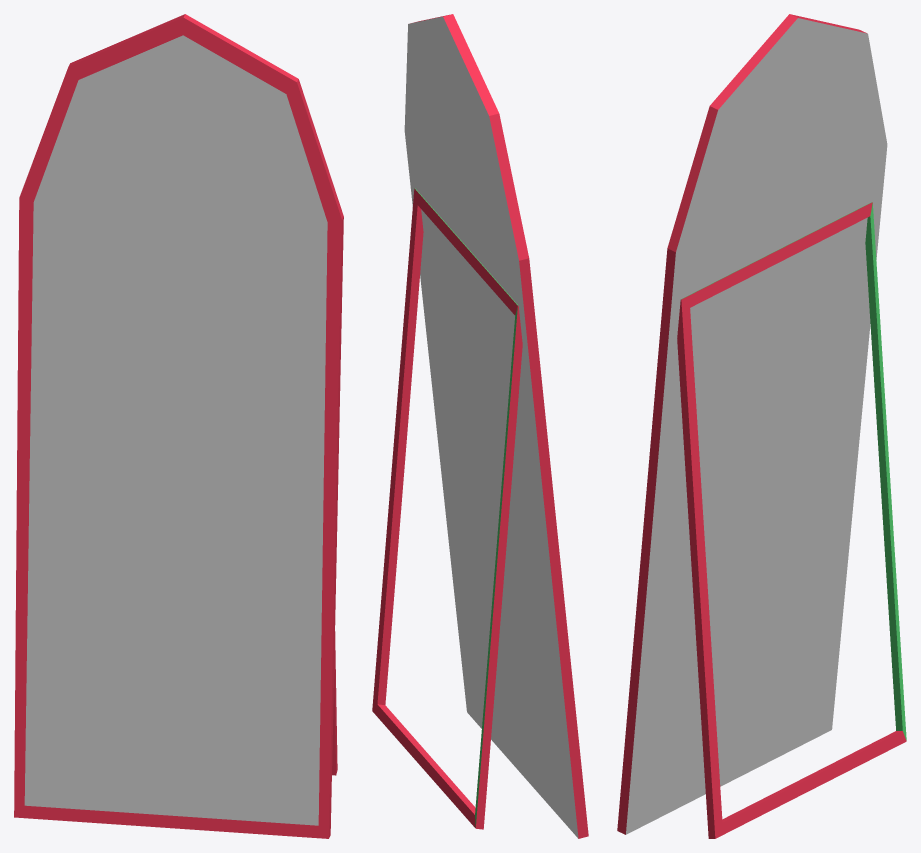
Rendered from p_ayna.obj.
3 renders of one model, left to right at view 1: azimuth 30°, elevation 25°; view 2: azimuth 150°, elevation 25°; view 3: azimuth 270°, elevation 25°, orthographic.
Parts seen in each view (by area): view 1: Circle.021_m_beyaz, Circle.021_m_koyupembe; view 2: Circle.021_m_beyaz, Circle.021_m_koyupembe, Circle.021_m_yeşil; view 3: Circle.021_m_beyaz, Circle.021_m_koyupembe, Circle.021_m_yeşil.
Part boxes in pixels (x1=…): Circle.021_m_beyaz: x1=24, y1=35, x2=327, y2=825; Circle.021_m_koyupembe: x1=14, y1=14, x2=343, y2=838; Circle.021_m_beyaz: x1=404, y1=16, x2=578, y2=838; Circle.021_m_koyupembe: x1=372, y1=14, x2=588, y2=838; Circle.021_m_yeşil: x1=414, y1=188, x2=517, y2=827; Circle.021_m_beyaz: x1=626, y1=18, x2=887, y2=834; Circle.021_m_koyupembe: x1=617, y1=14, x2=906, y2=838; Circle.021_m_yeşil: x1=681, y1=202, x2=906, y2=740.
Size of the model in its own units: 8.85 by 24.28 by 8.08.
